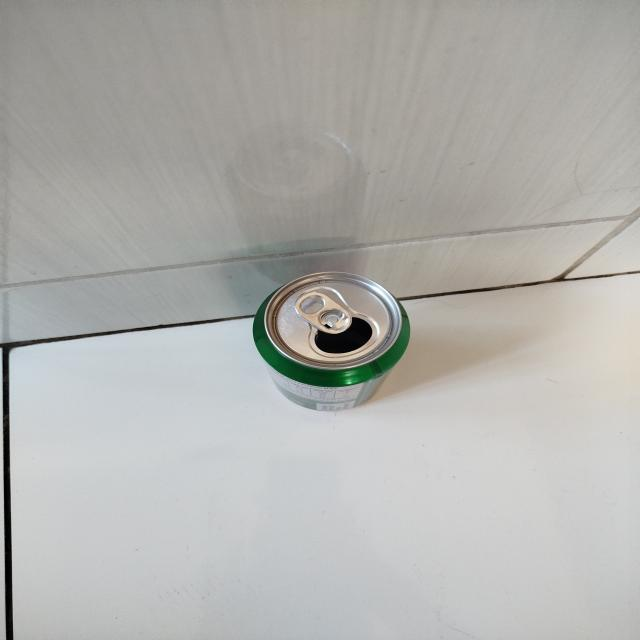Guarana: (248, 270, 413, 412)
